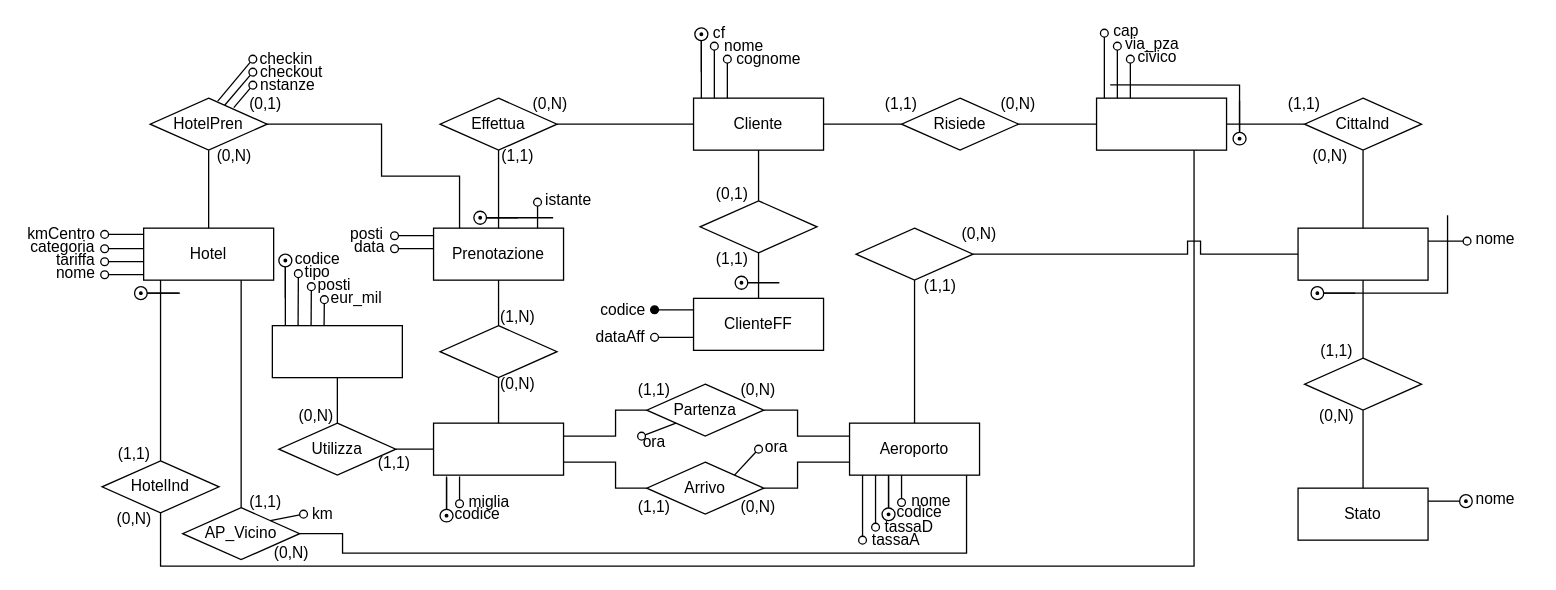
The diagram is 1556 pixels wide and 590 high, and some of its shapes have lost their labels. Here are the shapes that lost their labels. From the top down, the centre of each, then its label:
At (1161,123): "Indirizzo".
At (758,226): "ClienteISAFF".
At (914,253): "CittaAP".
At (1362,253): "Citta".
At (336,351): "Velivolo".
At (498,351): "VoloPren".
At (1362,383): "StatoCitta".
At (498,448): "Volo".
